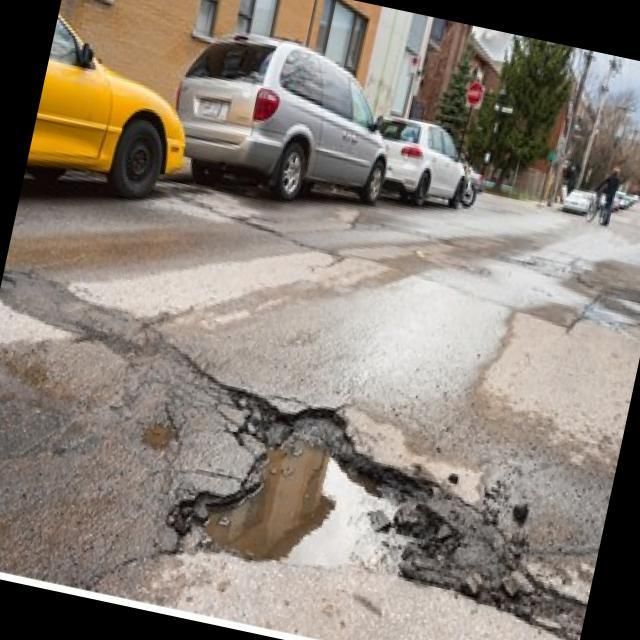Pothole: (155, 371, 473, 614)
